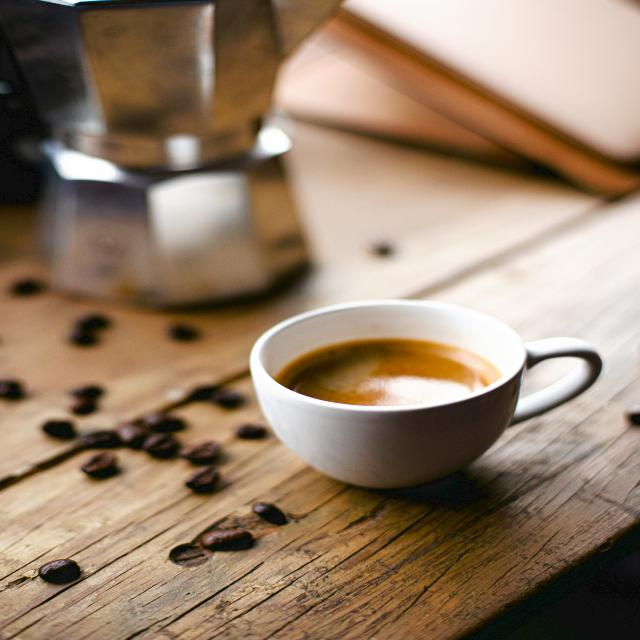drink: (252, 298, 602, 492)
